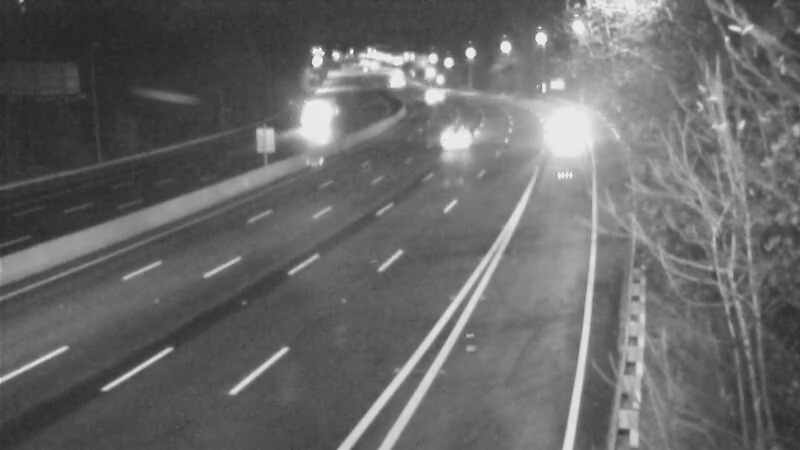vehicle: (409, 70, 459, 120), (424, 115, 474, 165), (539, 117, 589, 167), (292, 96, 342, 146)
